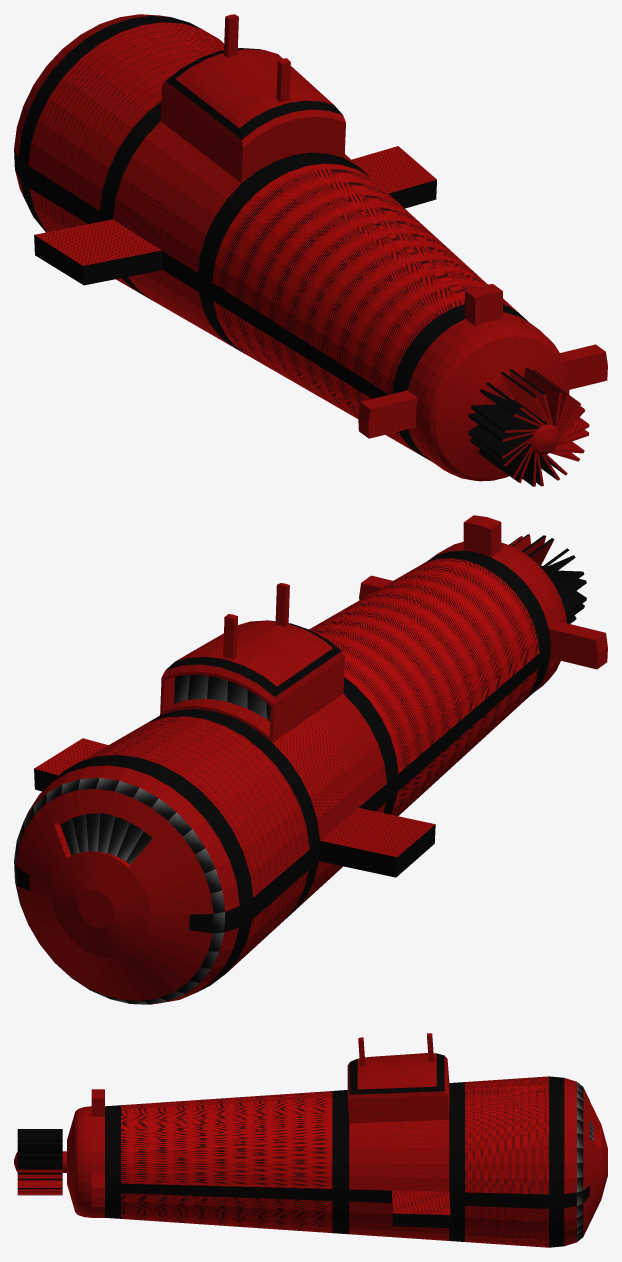
File: RED_Submarine.fbx
3 views of the same model, one above another, from view 1: azimuth 30°, elevation 25°; view 2: azimuth 150°, elevation 25°; view 3: azimuth 270°, elevation 25° (orthographic). The views are drawn at different scales.
Visible parts, largest first — view 1: Cylinder; view 2: Cylinder; view 3: Cylinder.
Part boxes in pixels (bbox=[...]): Cylinder: bbox=[14, 14, 607, 486]; Cylinder: bbox=[14, 515, 607, 1004]; Cylinder: bbox=[14, 1033, 607, 1247].
Size of the model in its own units: 322 by 264 by 693.
